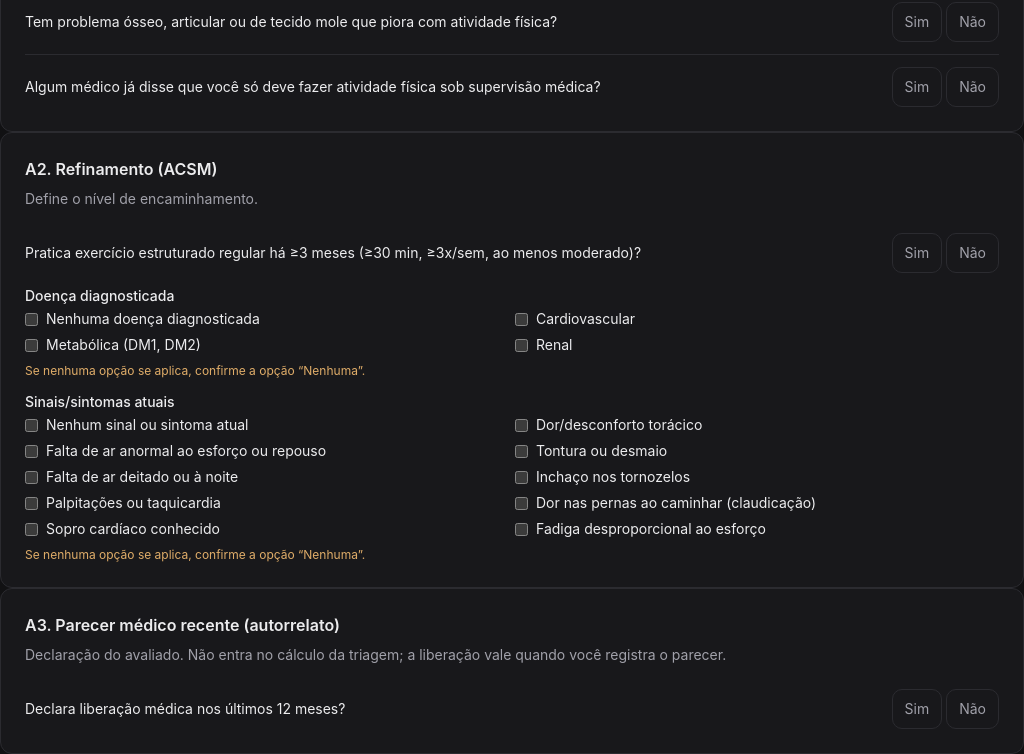
Scenario: confirmações explícitas da camada A2 › volta a exigir “Nenhum” quando o último sintoma marcado é removido
(page scrolled)
Click the checkbox labelled "Palpitações ou taquicardia".
click(32, 503)  # box [25,496,38,510]
(page scrolled)
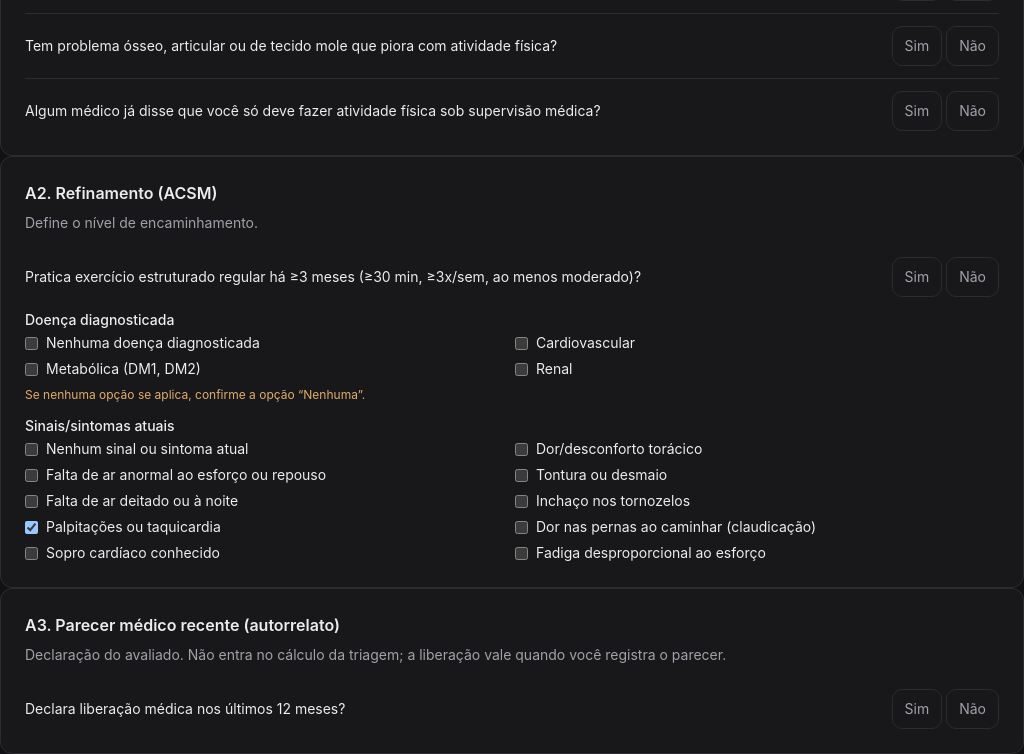
Expected: the text "Se nenhuma opção se aplica, confirme a opção “Nenhuma”." is shown once, [25,387,365,402]
Click the checkbox labelled "Palpitações ou taquicardia".
click(32, 527)  # box [25,520,38,534]
(page scrolled)
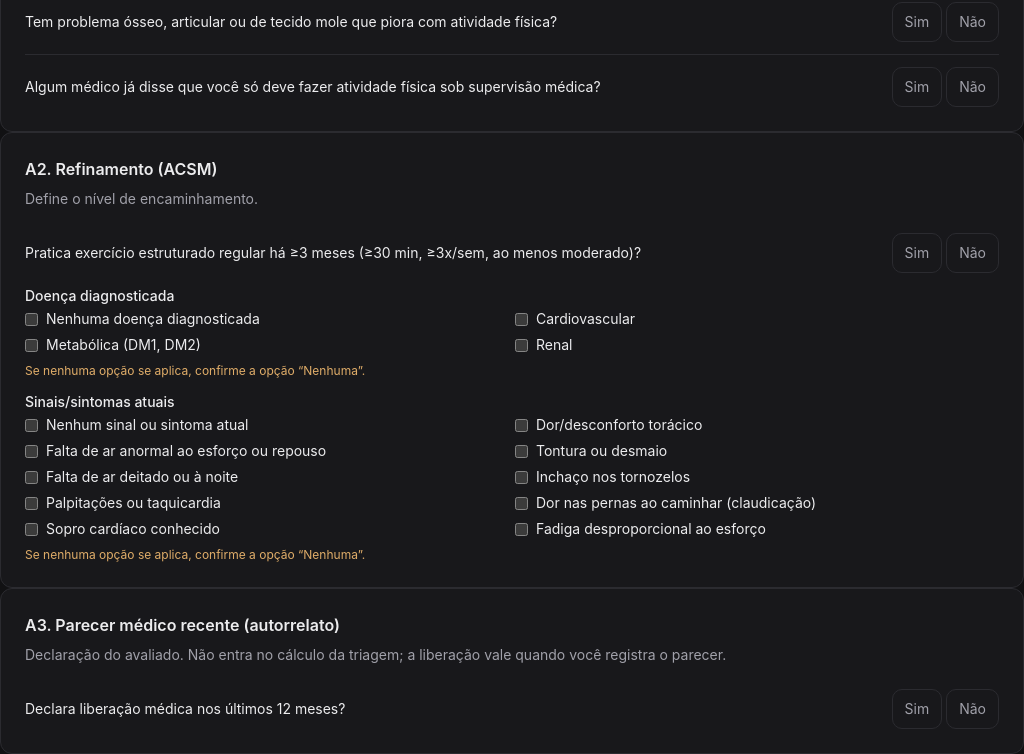
Expected: the checkbox labelled "Nenhum sinal ou sintoma atual" is not checked, [25,418,38,432]
Expected: the text "Se nenhuma opção se aplica, confirme a opção “Nenhuma”." is shown 2 times, [25,363,365,378]; [25,547,365,562]
